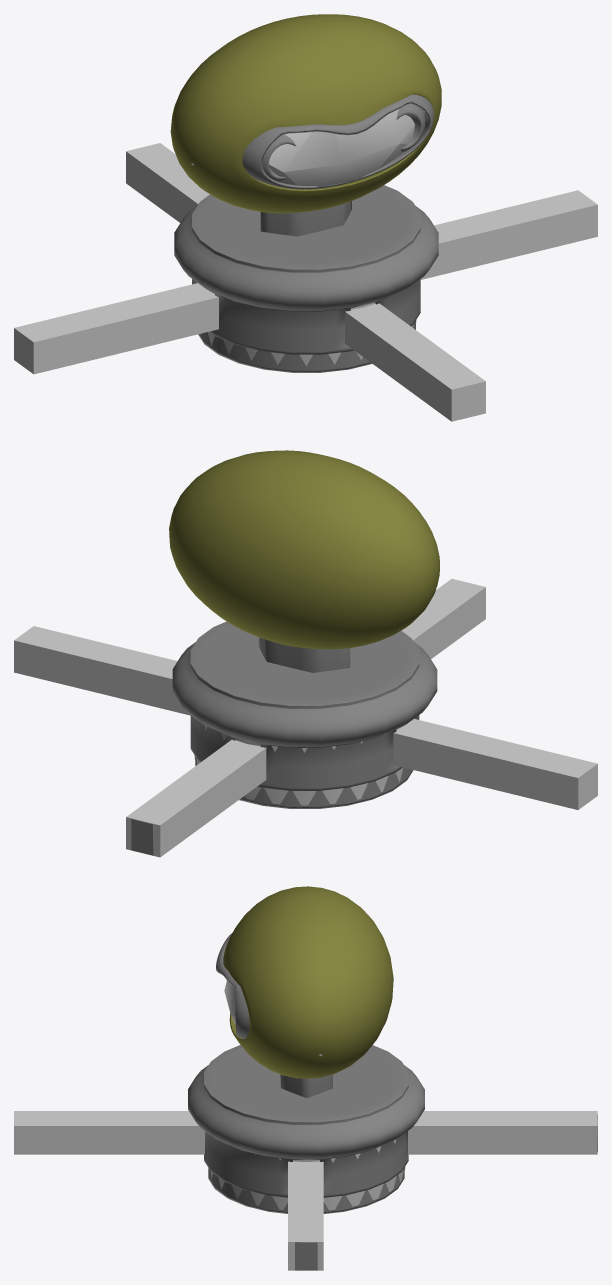
File: Spiny.fbx
3 renders of one model, top to bottom at view 1: azimuth 30°, elevation 25°; view 2: azimuth 150°, elevation 25°; view 3: azimuth 270°, elevation 25°, orthographic. The views are drawn at different scales.
Parts seen in each view (by area): view 1: head, body, body-col, head-col; view 2: head, body, body-col; view 3: body, head, body-col.
Part boxes in pixels (x1=…): head: x1=170, y1=14, x2=441, y2=236; body: x1=174, y1=185, x2=438, y2=372; body-col: x1=14, y1=143, x2=597, y2=421; head-col: x1=191, y1=109, x2=424, y2=189; head: x1=169, y1=450, x2=439, y2=672; body: x1=131, y1=621, x2=437, y2=855; body-col: x1=14, y1=579, x2=597, y2=857; body: x1=188, y1=1045, x2=597, y2=1270; head: x1=216, y1=886, x2=393, y2=1097; body-col: x1=14, y1=1111, x2=597, y2=1270.
Size of the model in its own units: 1567 by 797 by 1566.
